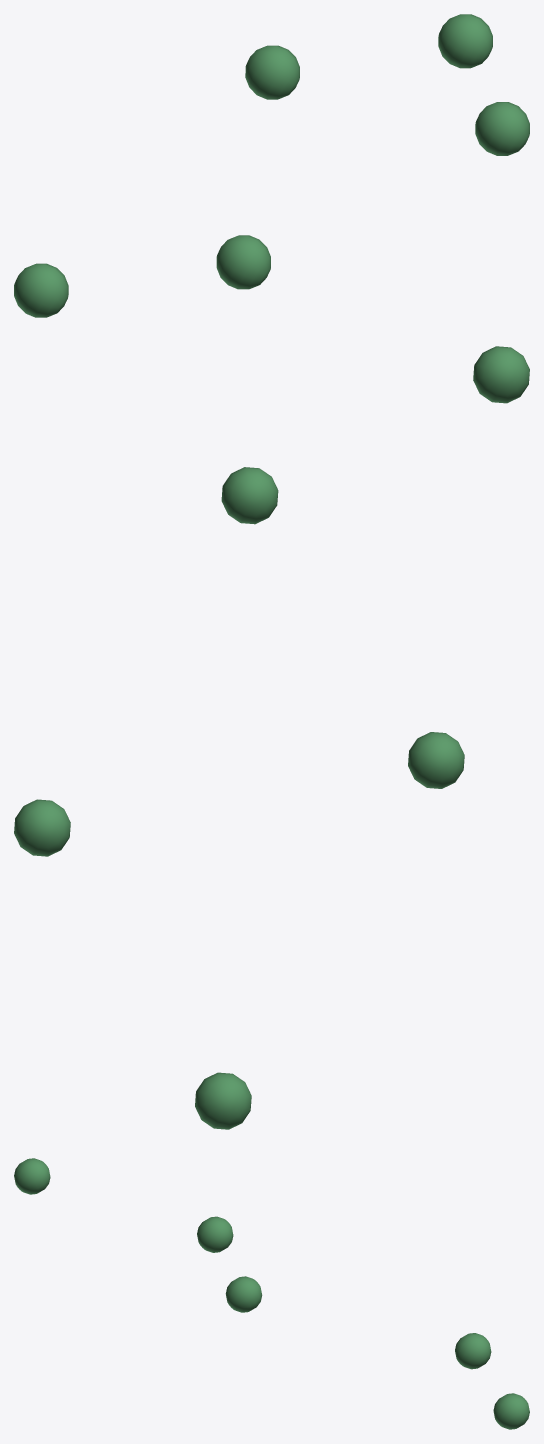
The picture shows the model from 3 angles, top to bottom: view 1: azimuth 30°, elevation 25°; view 2: azimuth 150°, elevation 25°; view 3: azimuth 270°, elevation 25°; orthographic projection. The views are drawn at different scales.
Parts seen in each view (by area): view 1: 左侧胸肌间淋巴结; view 2: 左侧胸肌间淋巴结; view 3: 左侧胸肌间淋巴结.
Boxes of the visible parts, box(x1,y1,x2,y2) form: 左侧胸肌间淋巴结: box(14, 14, 529, 317); 左侧胸肌间淋巴结: box(14, 346, 529, 1129); 左侧胸肌间淋巴结: box(14, 1158, 529, 1429).
Size of the model in its own units: 0.0199 by 0.0345 by 0.0539.
